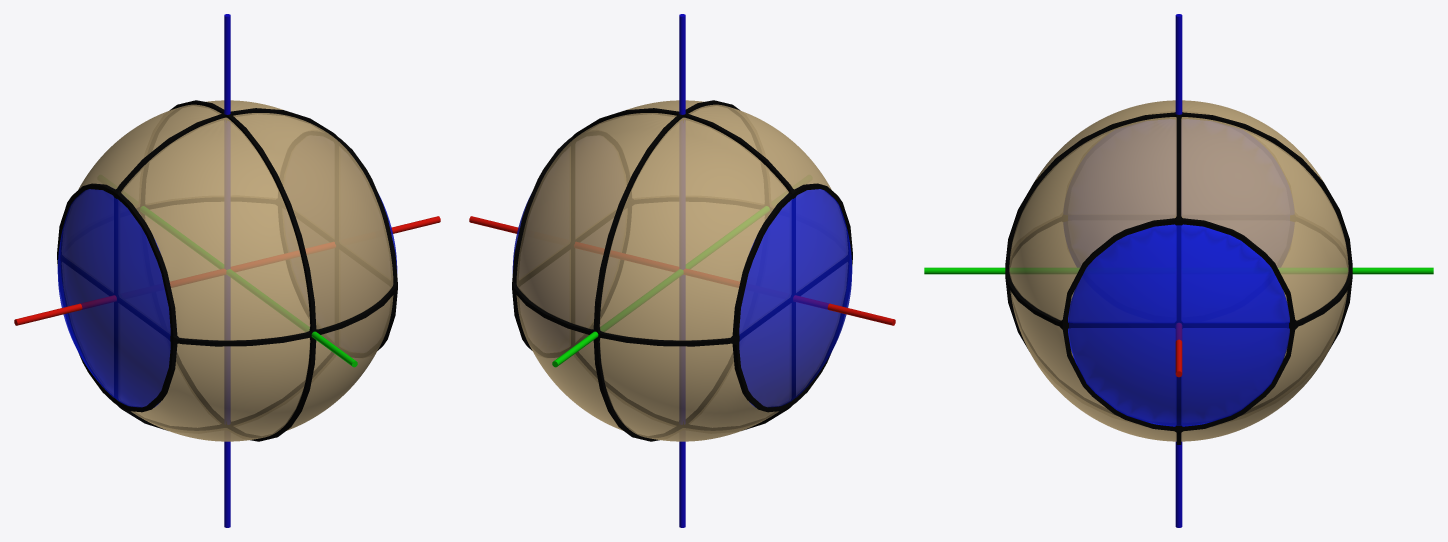
File: LoomisSphere.glb
The picture shows the model from 3 angles, left to right: view 1: azimuth 30°, elevation 25°; view 2: azimuth 150°, elevation 25°; view 3: azimuth 270°, elevation 25°; orthographic projection.
Visible parts, largest first — view 1: Loomis_Sphere.003, Sphere.031, Sphere.030, Cylinder.033, Cylinder.035, Cylinder.034; view 2: Loomis_Sphere.003, Sphere.031, Sphere.030, Cylinder.033, Cylinder.035, Cylinder.034; view 3: Loomis_Sphere.003, Sphere.031, Sphere.030, Cylinder.034, Cylinder.033.
Part boxes in pixels (left/top/right/bottom): Loomis_Sphere.003: left=62, top=100, right=393, bottom=441; Sphere.031: left=57, top=189, right=397, bottom=407; Sphere.030: left=57, top=100, right=397, bottom=441; Cylinder.033: left=224, top=14, right=230, bottom=527; Cylinder.035: left=14, top=216, right=440, bottom=325; Cylinder.034: left=140, top=206, right=357, bottom=367; Loomis_Sphere.003: left=516, top=100, right=847, bottom=441; Sphere.031: left=512, top=189, right=852, bottom=407; Sphere.030: left=512, top=100, right=852, bottom=441; Cylinder.033: left=679, top=14, right=685, bottom=527; Cylinder.035: left=469, top=216, right=895, bottom=325; Cylinder.034: left=552, top=206, right=769, bottom=367; Loomis_Sphere.003: left=1009, top=100, right=1348, bottom=441; Sphere.031: left=1068, top=224, right=1289, bottom=426; Sphere.030: left=1005, top=112, right=1352, bottom=444; Cylinder.034: left=924, top=267, right=1433, bottom=274; Cylinder.033: left=1175, top=14, right=1182, bottom=527.
Size of the model in its own units: 2.8 by 3.23 by 2.92.
